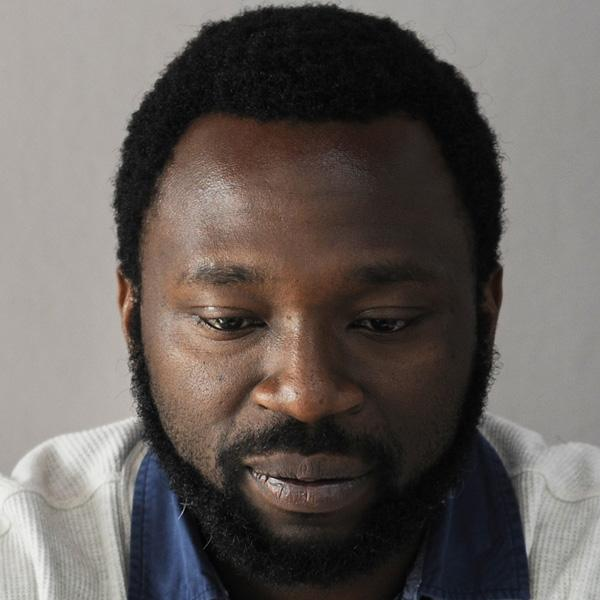Eyes: (179, 292, 272, 349), (338, 299, 433, 347)
